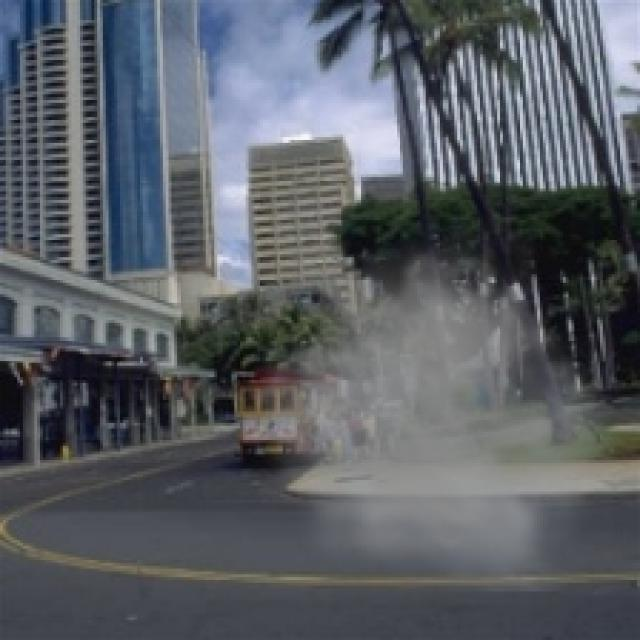Smoke: (237, 206, 634, 592)
